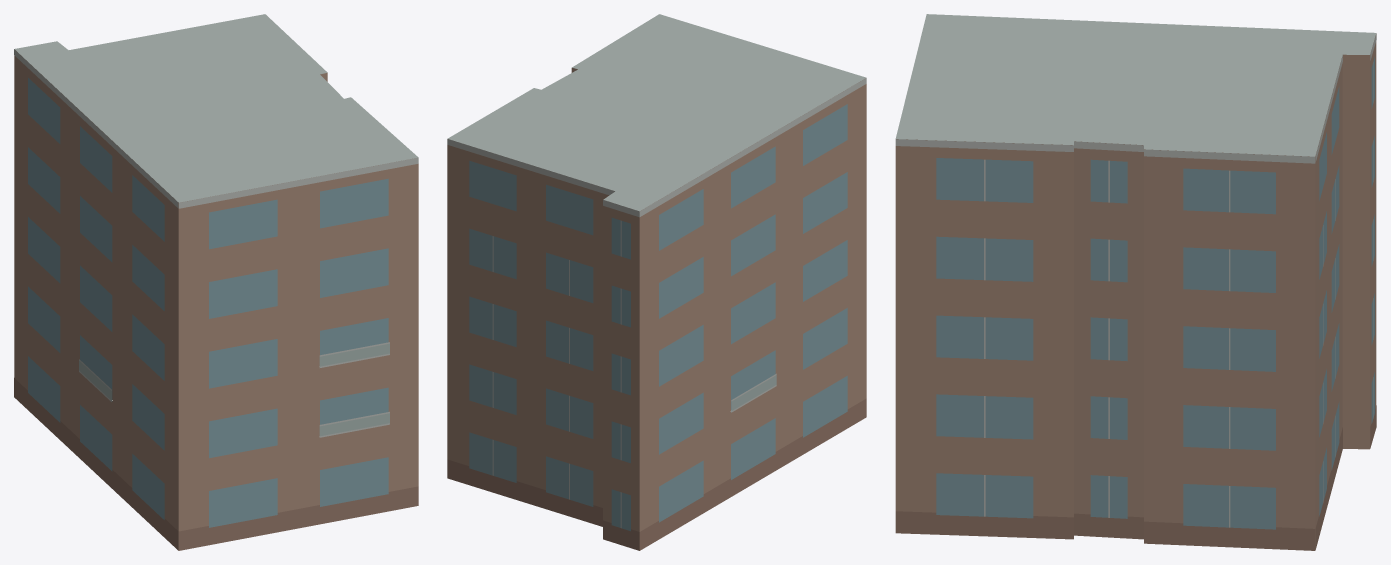
File: survey-upis-32595475.glb
The picture shows the model from 3 angles, left to right: view 1: azimuth 30°, elevation 25°; view 2: azimuth 150°, elevation 25°; view 3: azimuth 270°, elevation 25°; orthographic projection. The views are drawn at different scales.
Visible parts, largest first — view 1: survey-upis-32595475.tmp; view 2: survey-upis-32595475.tmp; view 3: survey-upis-32595475.tmp.
Boxes of the visible parts, <box> form: survey-upis-32595475.tmp: <box>14,14,418,550</box>; survey-upis-32595475.tmp: <box>447,14,866,550</box>; survey-upis-32595475.tmp: <box>895,14,1376,550</box>.
Size of the model in its own units: 10.72 by 13.8 by 15.27.
